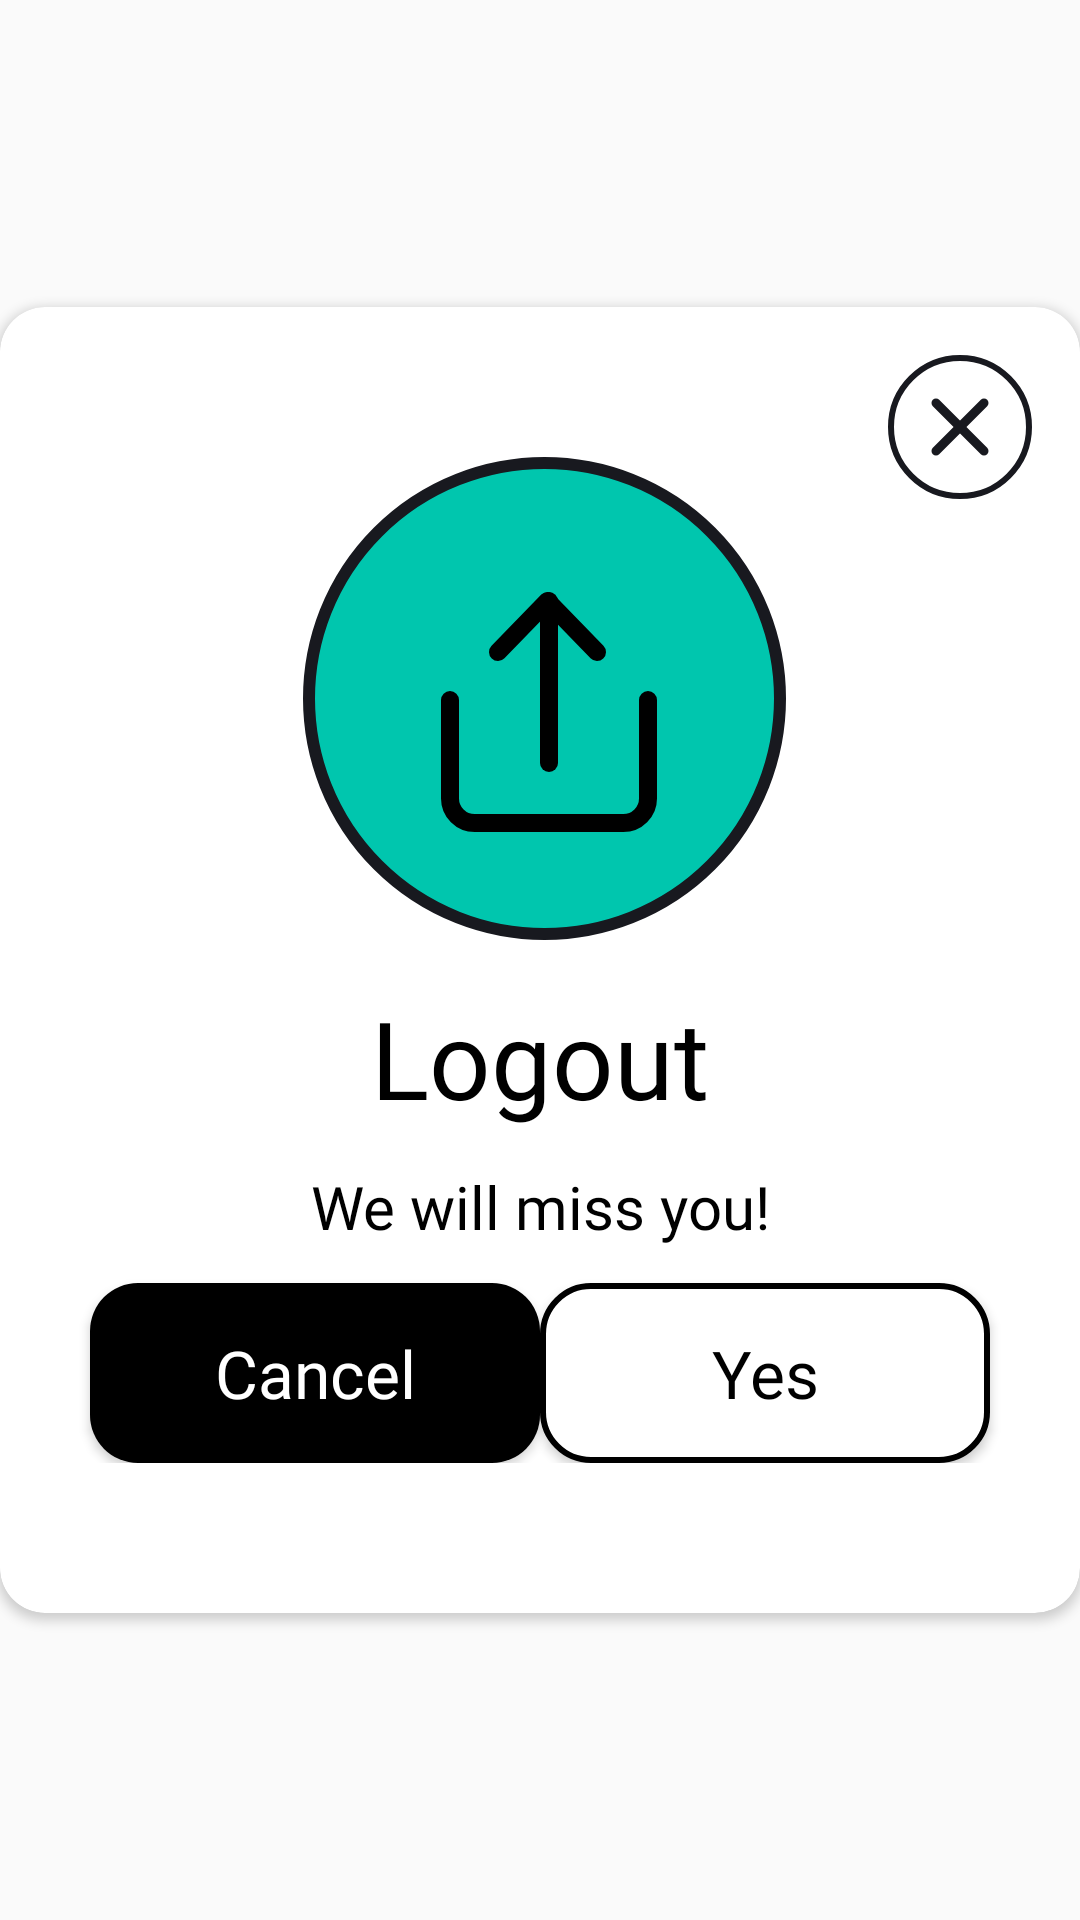

Icons on this 1080w x 1920h Android screen, each with the point to tap as (x,y):
cross: (960,427)
